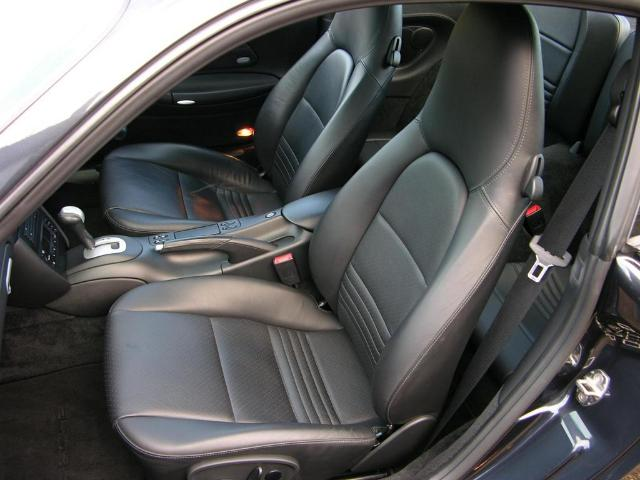Seatbelt: (426, 123, 610, 448)
